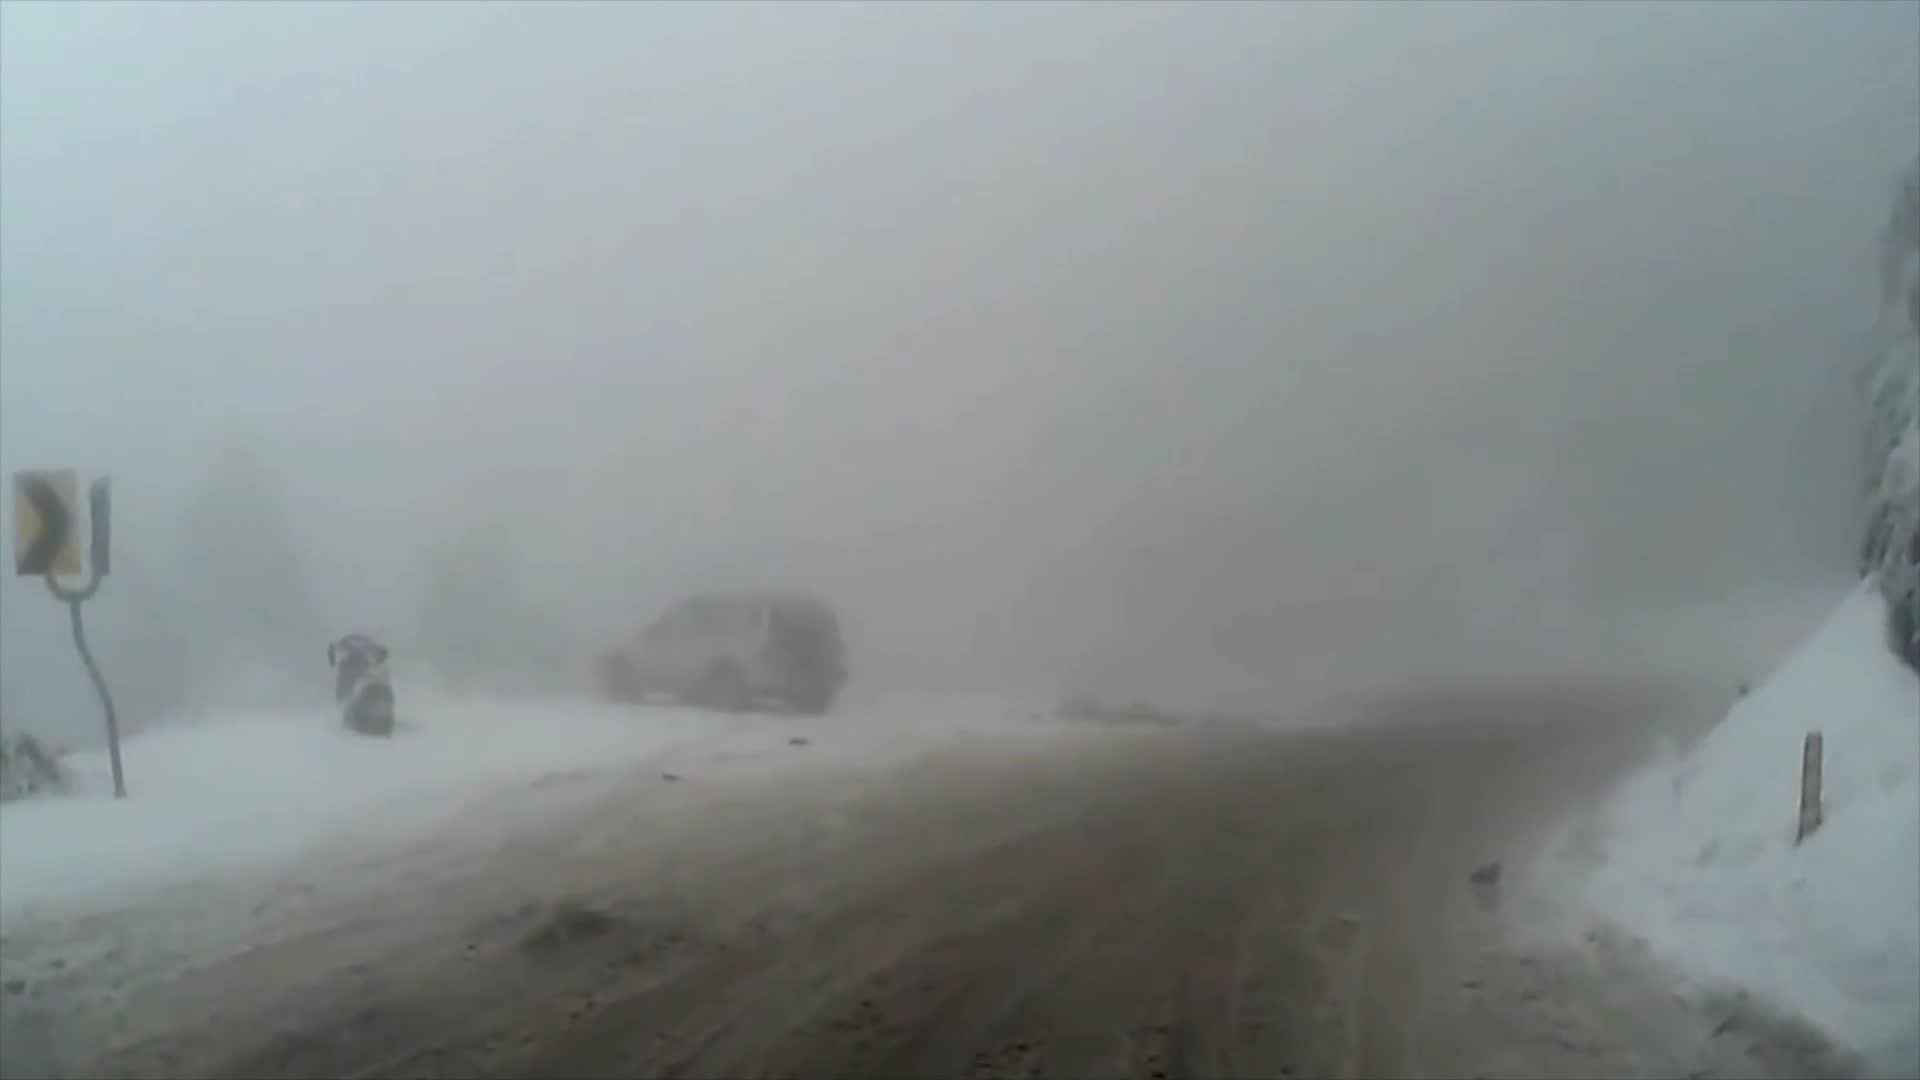vehicle: (600, 592, 851, 716)
